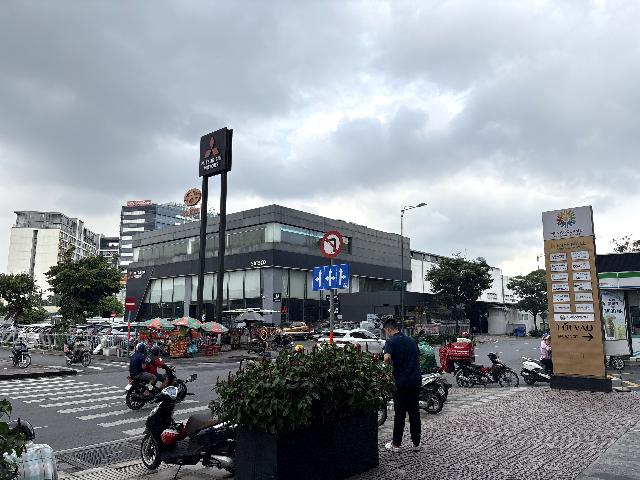cam-di-nguoc-chieu: (124, 297, 136, 311)
cam-re-trai: (320, 230, 344, 259)
